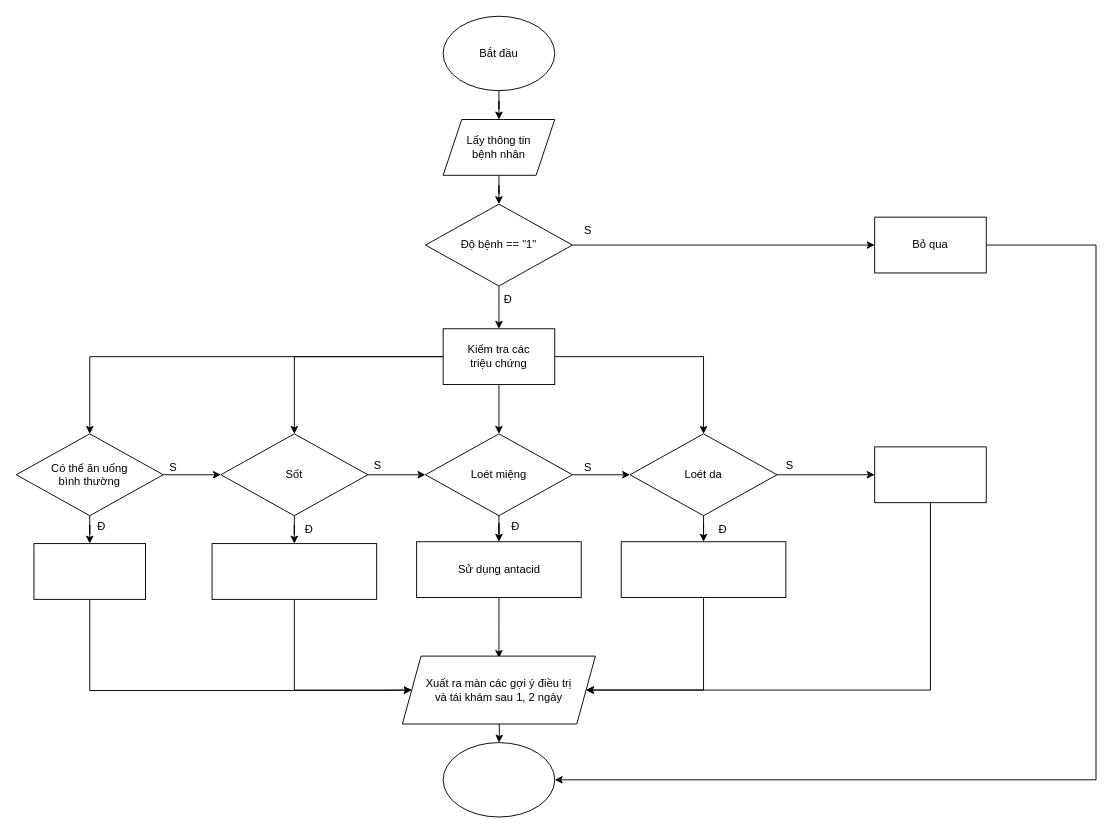
Some shapes in this 1120 by 833 pixel diagram are drawn without their labels. Here are the shapes that lost their labels. From the top down, the centre of each, then its label:
point 930,474: Theo dõi thêm
point 89,571: Cho ăn thức ăn lỏng, dễ tiêu
point 294,571: Paracetmol 10-15 mg/lần Ibuprofen 5-10 mg/lần
point 703,569: Sử dụng Povidone-iodine, xanh methylene
point 498,779: Kết thúc
